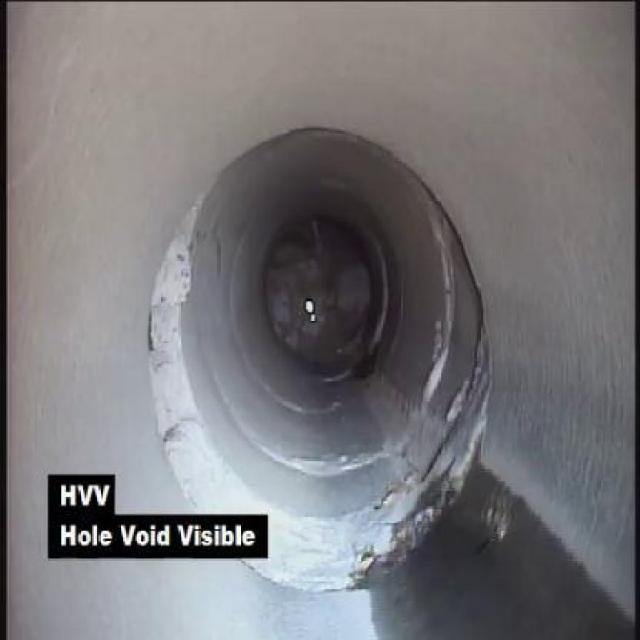Joint offset: (144, 172, 262, 514), (270, 449, 512, 597)
